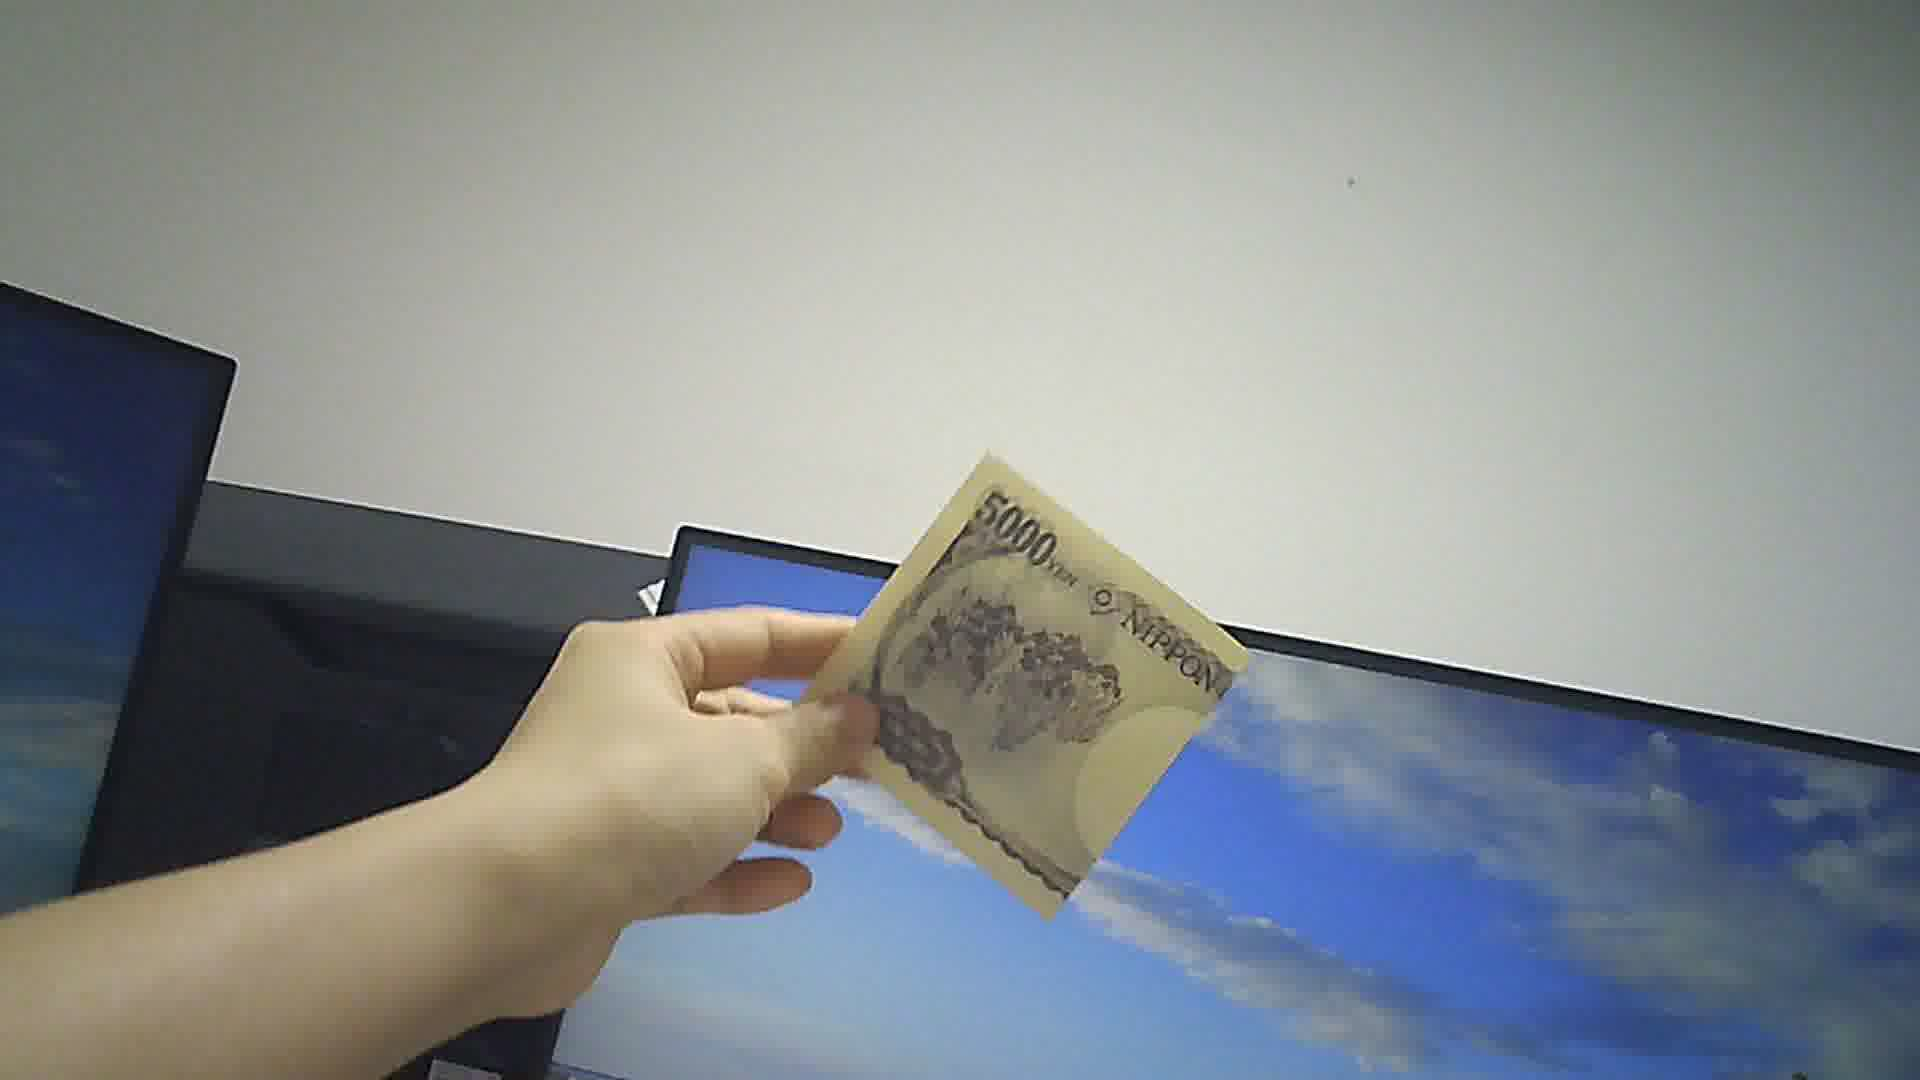5,000 Yen: (804, 443, 1237, 924)
